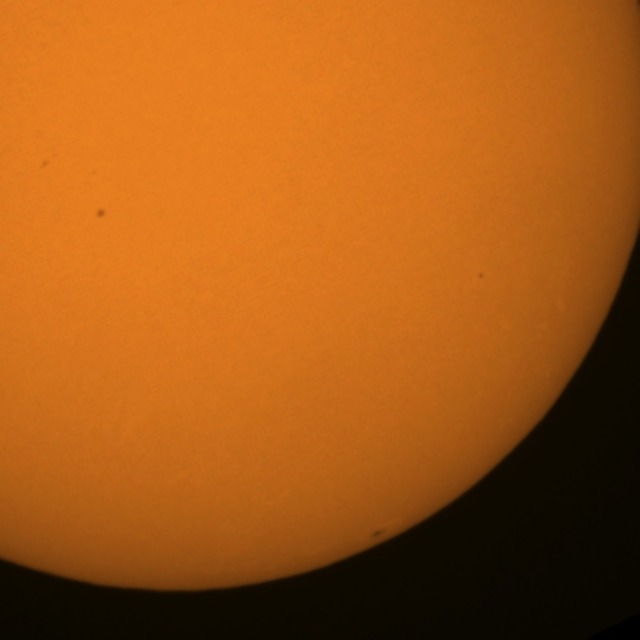sunspot: (368, 528, 386, 542), (94, 207, 108, 221), (39, 159, 51, 171), (476, 270, 486, 281)
